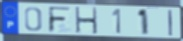0: (24, 6, 44, 32)
1: (137, 9, 150, 36), (111, 8, 122, 35)
F: (47, 6, 73, 34)
H: (74, 6, 99, 35)
I: (167, 9, 174, 37)
